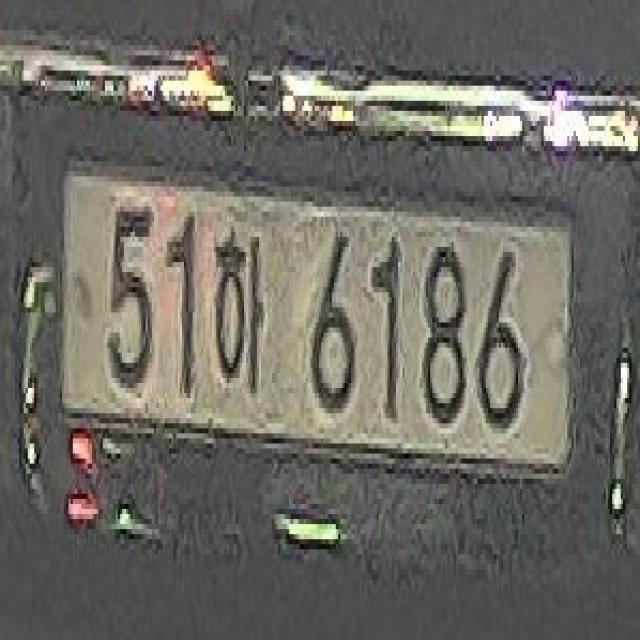1: (362, 226, 408, 437), (164, 210, 202, 410)
5: (105, 192, 157, 394)
6: (304, 224, 360, 437), (474, 241, 528, 446)
8: (418, 226, 470, 449)
ha: (208, 222, 267, 400)
license_plate: (50, 131, 590, 529)
